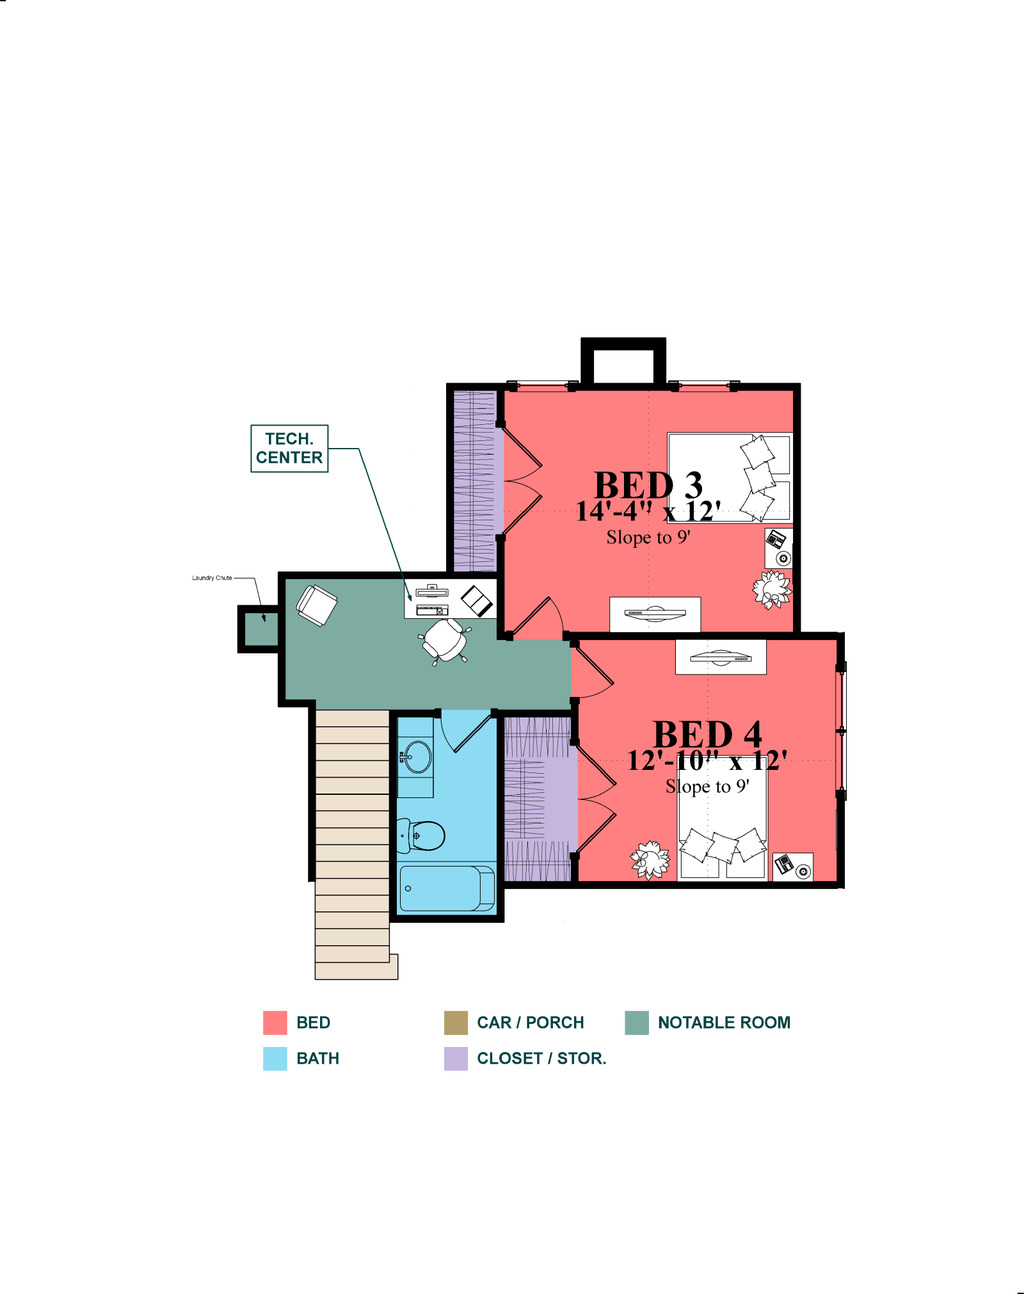bed: (662, 422, 792, 526), (676, 748, 770, 884)
door: (564, 744, 620, 856), (500, 426, 540, 533), (556, 636, 614, 704), (434, 702, 492, 764), (502, 598, 572, 638)
large_sink: (392, 812, 466, 864)
small_sink: (402, 718, 440, 806)
stairs: (298, 704, 406, 994)
tub: (400, 862, 498, 912)
window: (830, 670, 854, 800), (506, 384, 574, 400), (666, 374, 738, 388)
